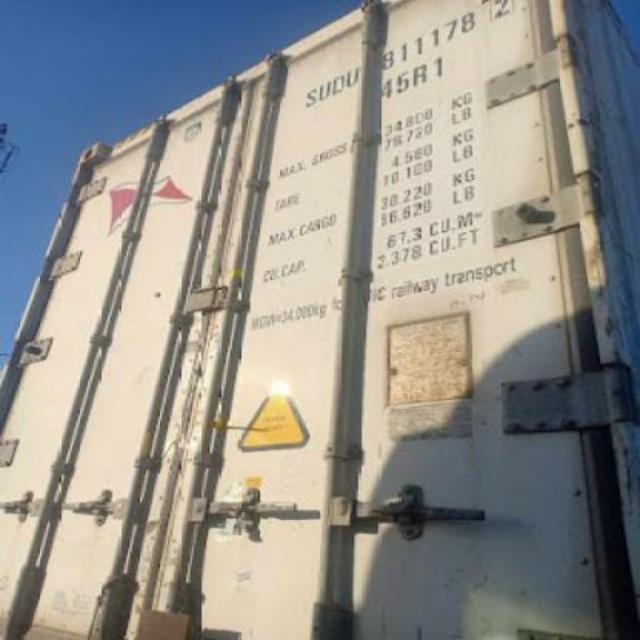1: (426, 20, 442, 50), (394, 38, 410, 62), (412, 32, 424, 58)
2: (486, 2, 516, 20)
7: (444, 12, 458, 42)
8: (460, 6, 476, 34)
9: (378, 45, 394, 71)
D: (331, 71, 344, 95)
S: (300, 85, 316, 108)
U: (346, 61, 362, 91), (318, 74, 330, 102)
